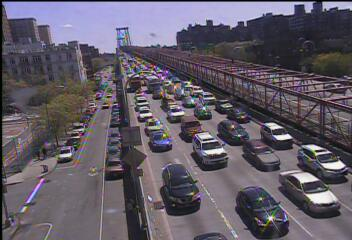neg: (110, 149, 135, 183), (75, 151, 92, 173), (311, 56, 326, 76), (274, 11, 287, 29), (143, 24, 156, 41), (80, 18, 93, 35), (160, 178, 172, 193), (209, 60, 219, 73)
pos: (32, 147, 43, 162), (39, 146, 49, 160)
